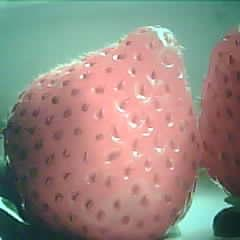straw-ripe: (8, 26, 198, 239)
